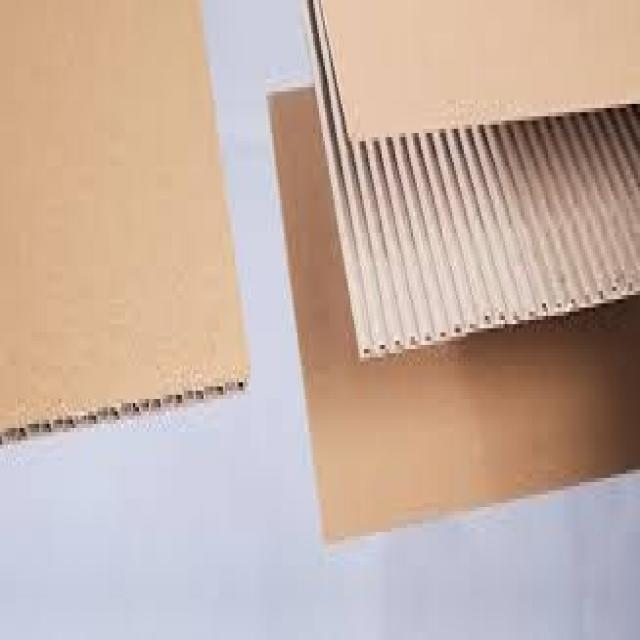cardboard paper: (267, 86, 638, 536), (307, 0, 638, 355)
